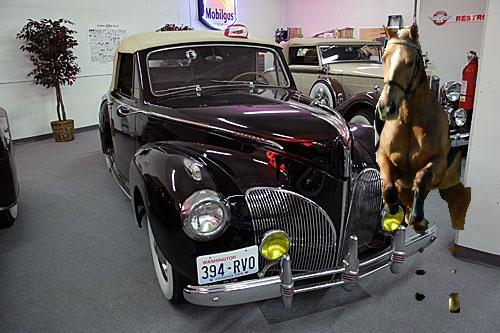tampered: (375, 24, 471, 313)
